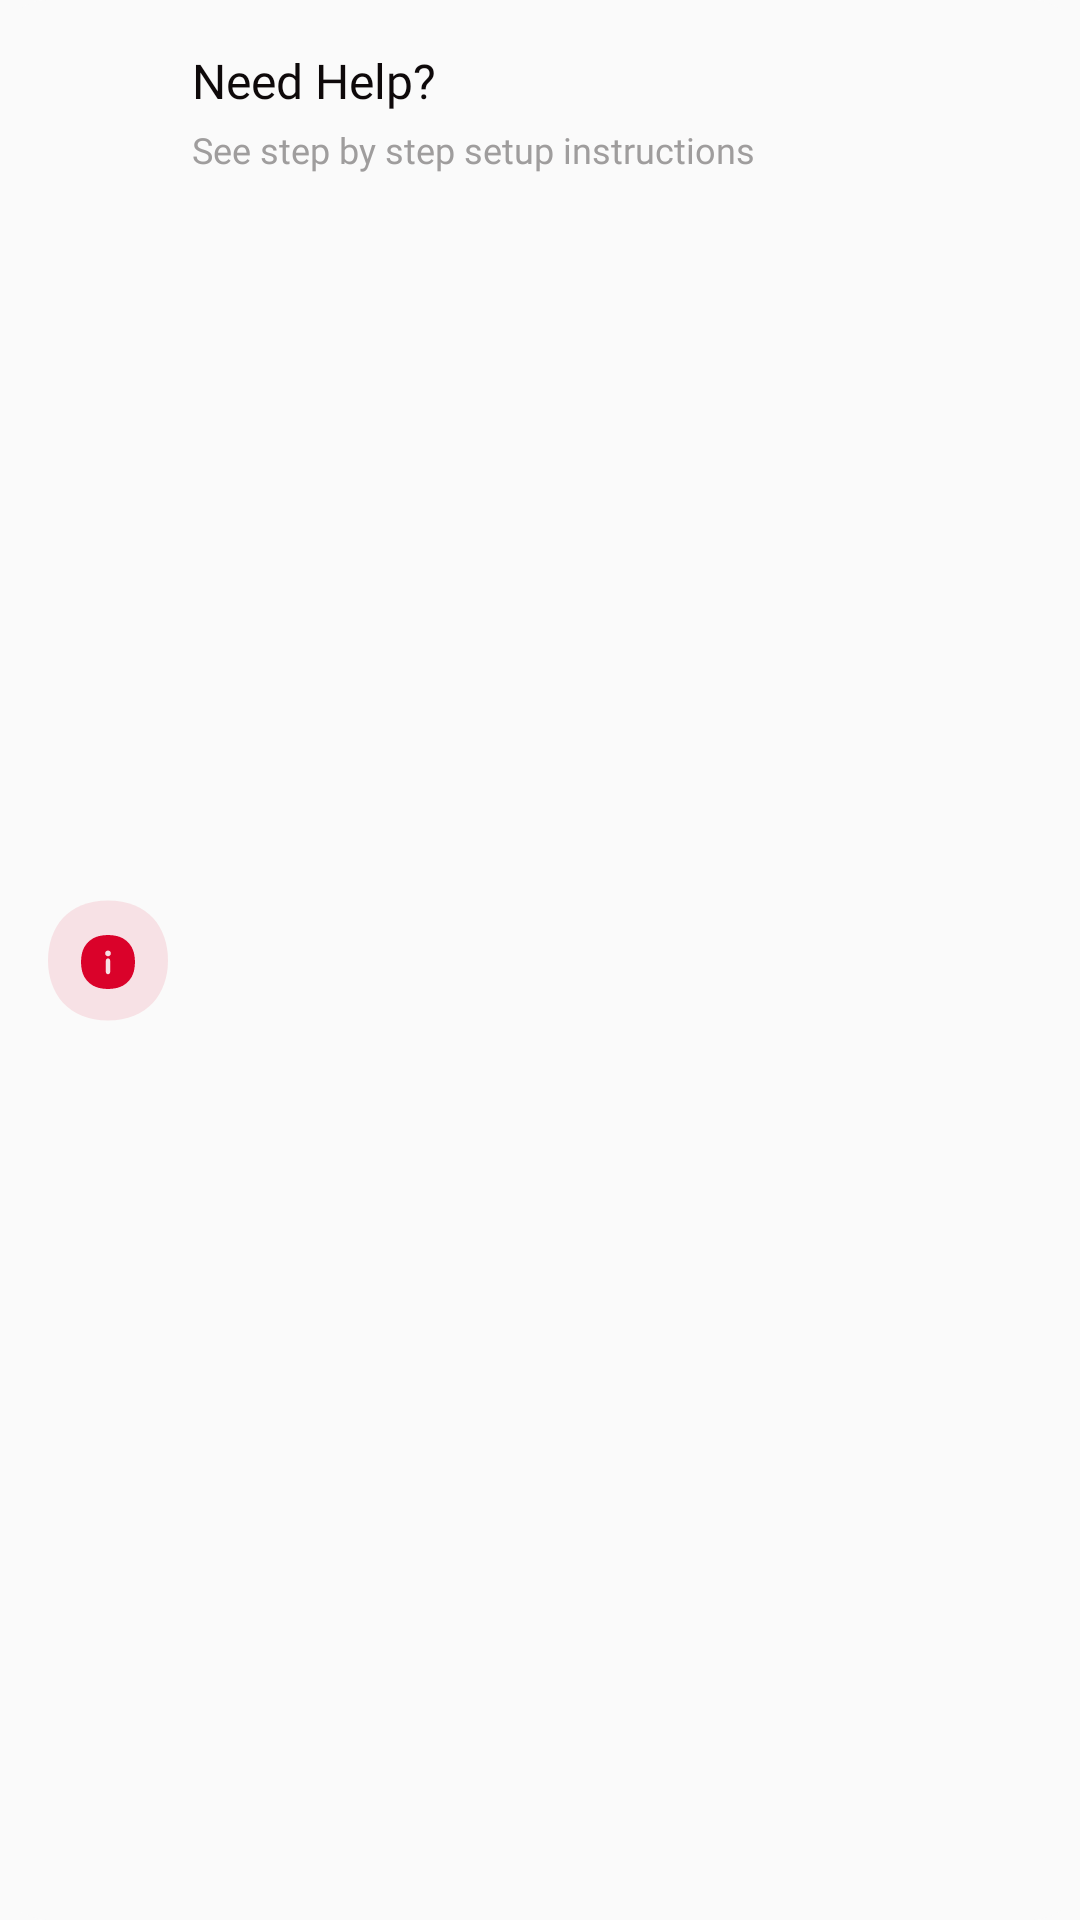

Point at icon controls on the screen. Image size 1080x1920, points as [x,y].
need help: [107,960]
